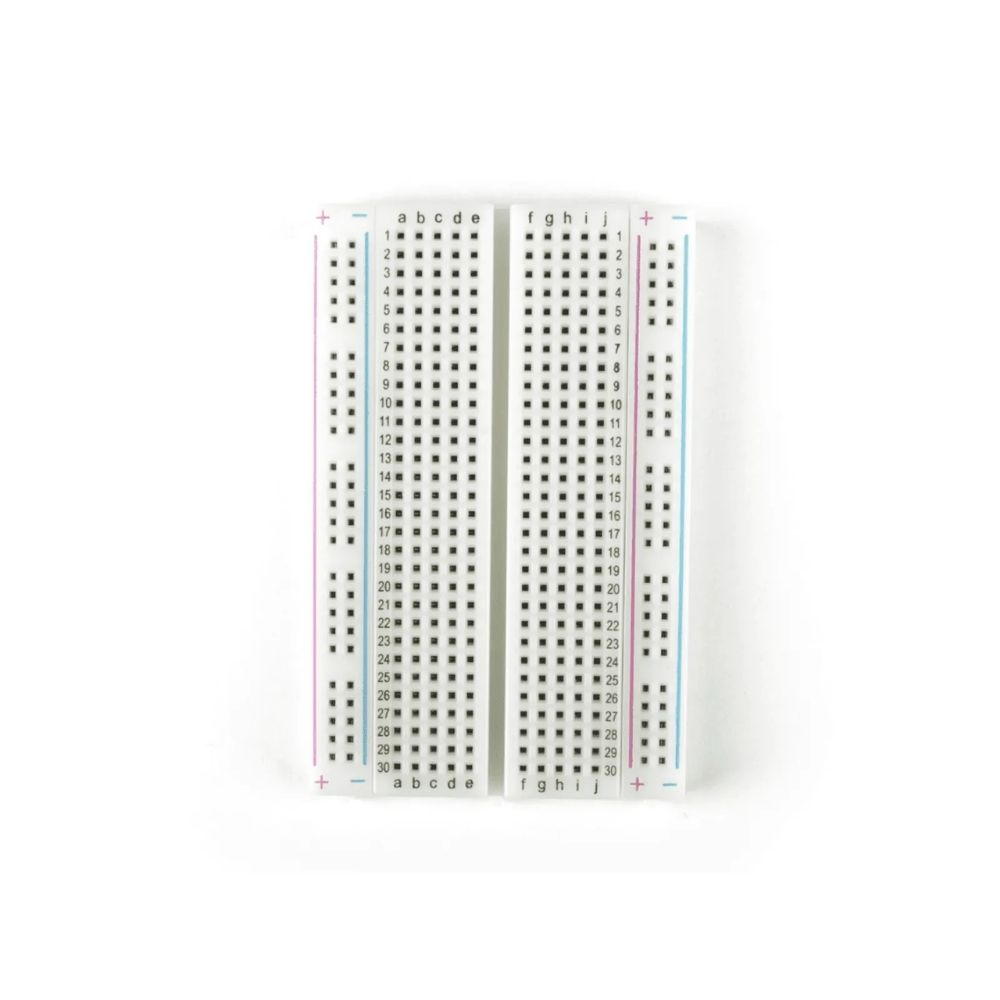Protoboard: (275, 185, 702, 809)
